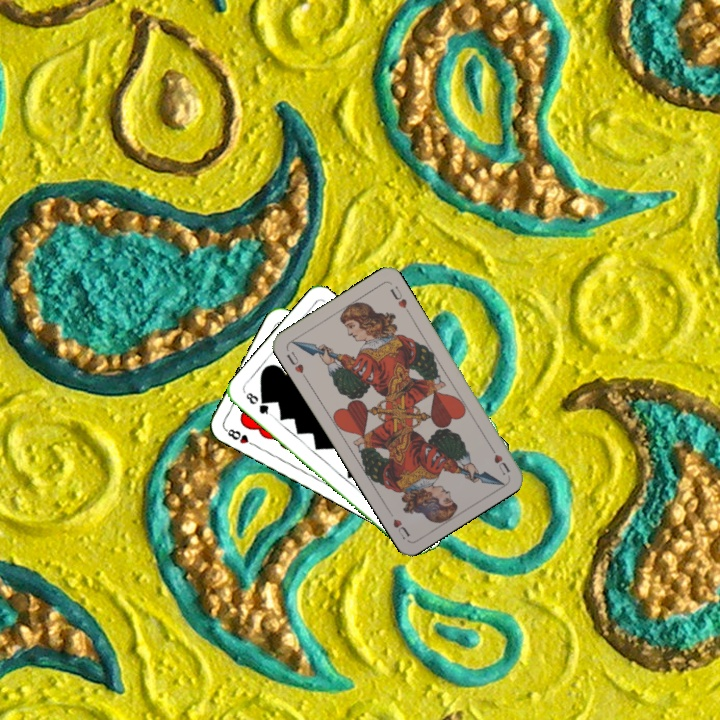G8: (242, 388, 274, 418)
H8: (221, 425, 259, 449)
HU: (485, 441, 513, 478), (282, 347, 309, 382)
